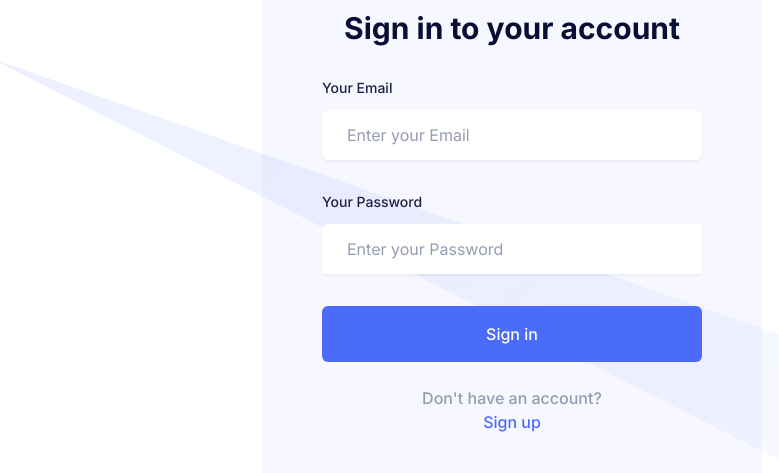
Sign in functionality › Should show error message if incorrect details are provided
This screenshot has width=779, height=473.
Step 1. Type "incorrect@gmail.com" into the field labelled "Your Email" → (512, 135), box [322,110,702,160]
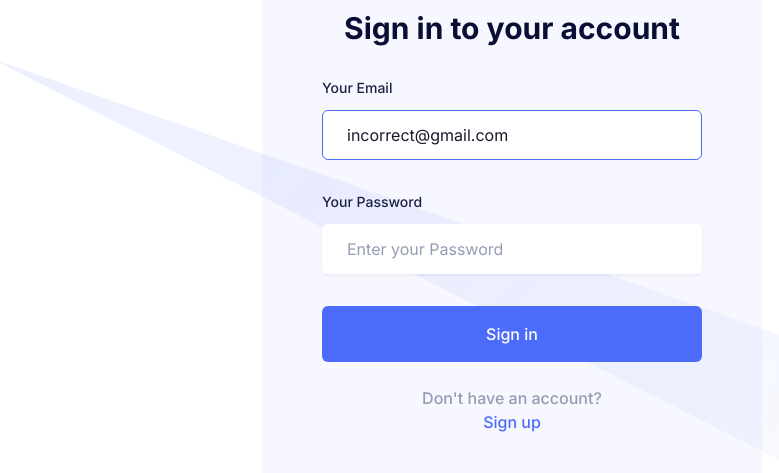
Step 2. Type "incorrectpassword" into the password field labelled "Your Password" → (512, 249), box [322,224,702,274]
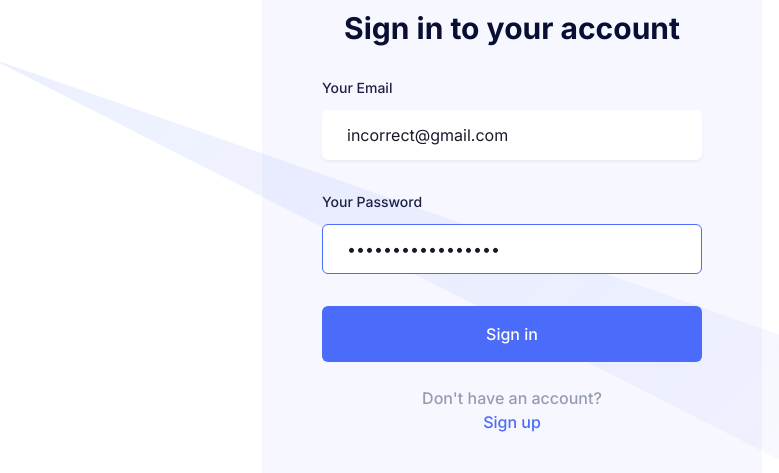
Step 3. Click the button → click(512, 334), box [322,306,702,362]
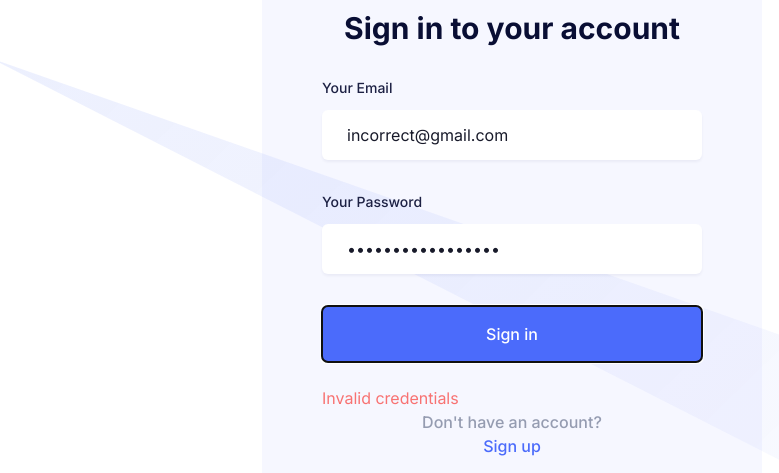
Expected: the text "Invalid credentials" is shown, [322,388,459,408]
